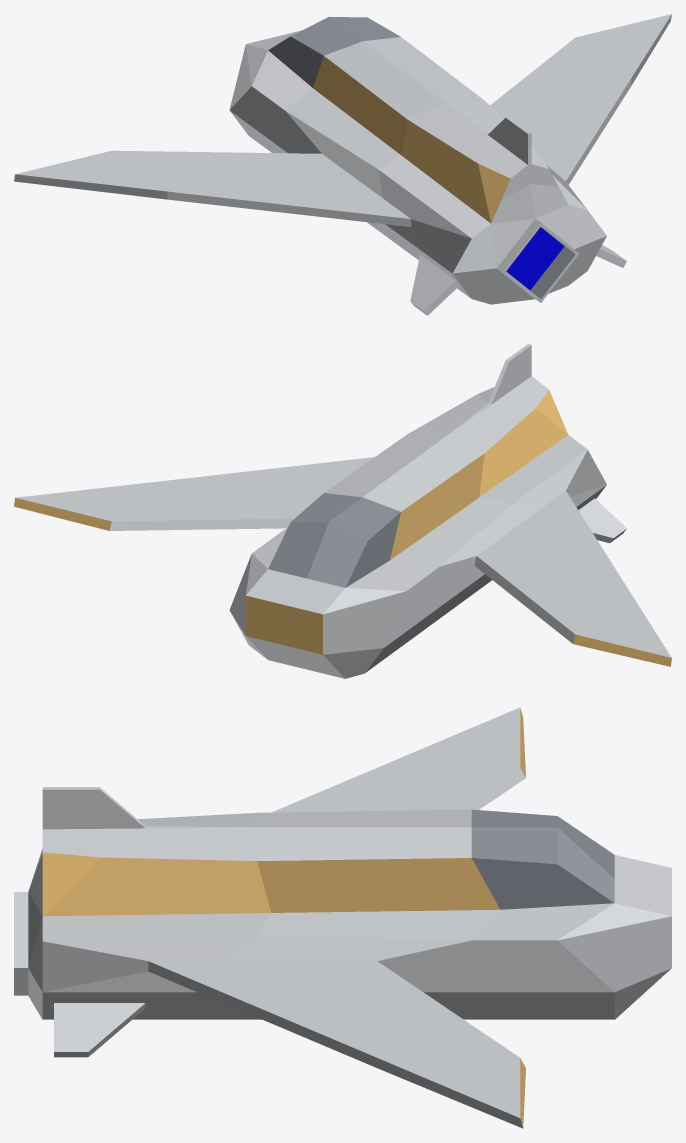
File: uni_3rd.glb
The picture shows the model from 3 angles, top to bottom: view 1: azimuth 30°, elevation 25°; view 2: azimuth 150°, elevation 25°; view 3: azimuth 270°, elevation 25°; orthographic projection. The views are drawn at different scales.
Parts seen in each view (by area): view 1: 3rd; view 2: 3rd; view 3: 3rd.
Boxes of the visible parts, bbox=[...] form: 3rd: bbox=[14, 14, 671, 315]; 3rd: bbox=[14, 344, 671, 678]; 3rd: bbox=[14, 707, 671, 1128].
Size of the model in its own units: 34 by 8.01 by 23.
